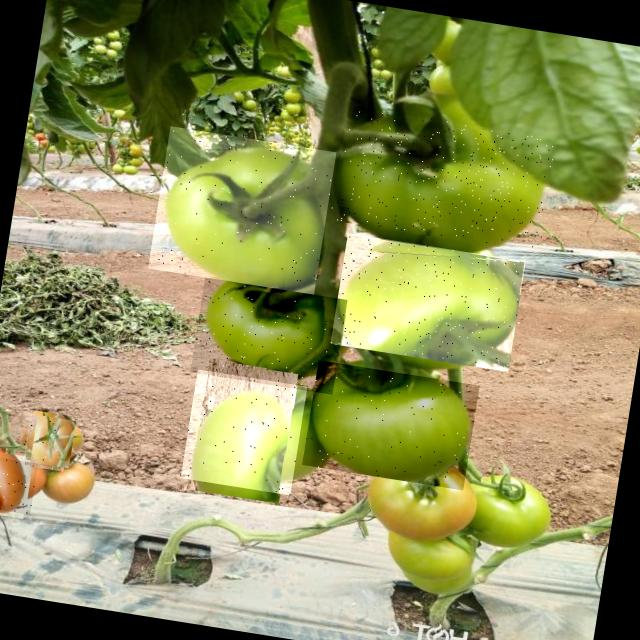Ripe Tomato: (20, 414, 76, 468), (0, 456, 38, 515)
Unripe Tomato: (330, 105, 558, 254), (147, 126, 336, 295), (330, 233, 526, 372), (302, 360, 480, 490), (190, 278, 348, 394), (180, 370, 308, 496)
